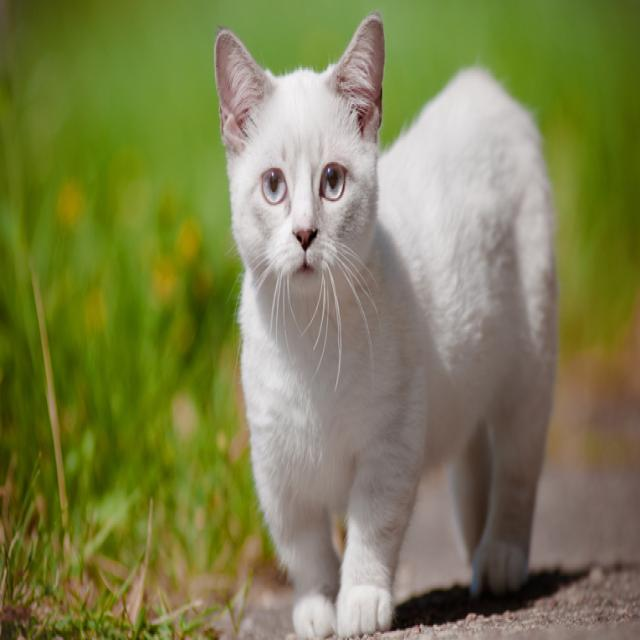Munchkin: (212, 4, 560, 640)
